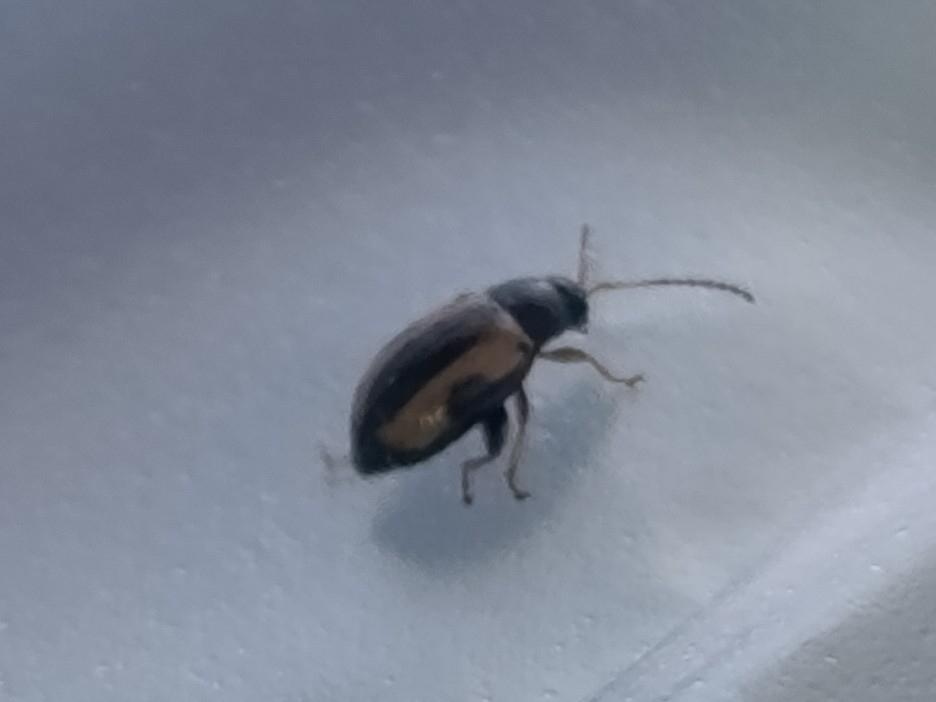flea_beetle: (285, 179, 790, 563)
